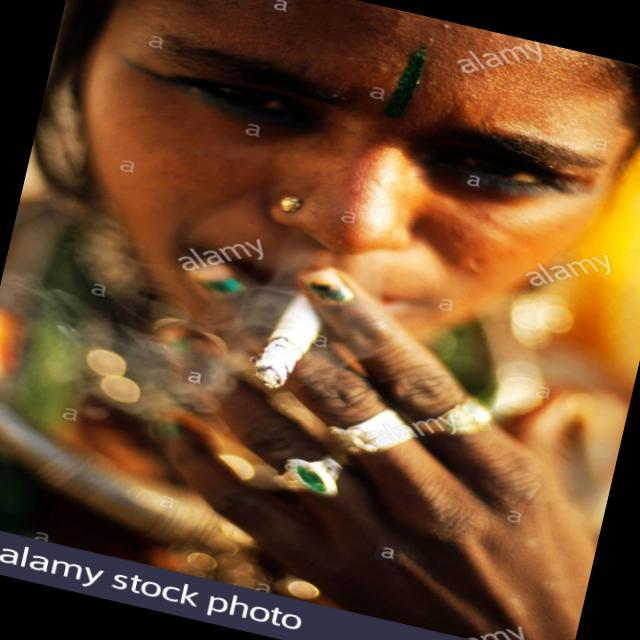cigarette: (248, 286, 324, 400)
